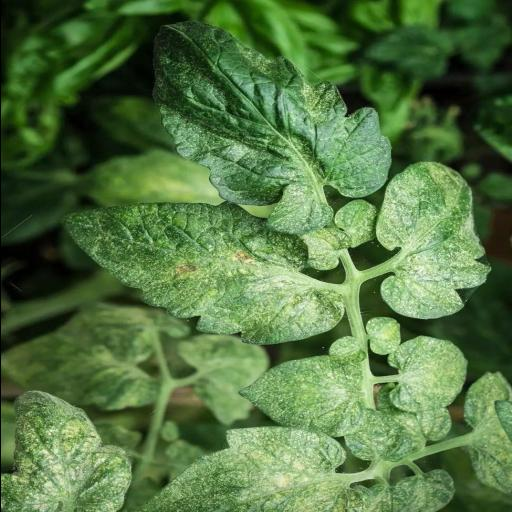disease_tomato: (150, 18, 393, 208), (66, 200, 342, 343), (376, 158, 490, 320), (0, 389, 132, 512), (236, 352, 370, 438), (386, 334, 468, 413)
